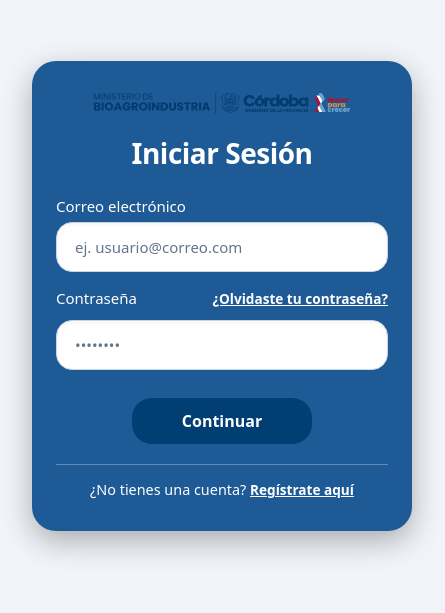
it: Pruebas del componente Login (Frontend) › TC-L-09: Muestra error si el email no tiene formato correcto
The width and height of the screenshot is (445, 613).
Ingresamos un email inválido
In the field labelled "Correo electrónico": (222, 248) 56,222 -> 388,272, type "noesunemail"
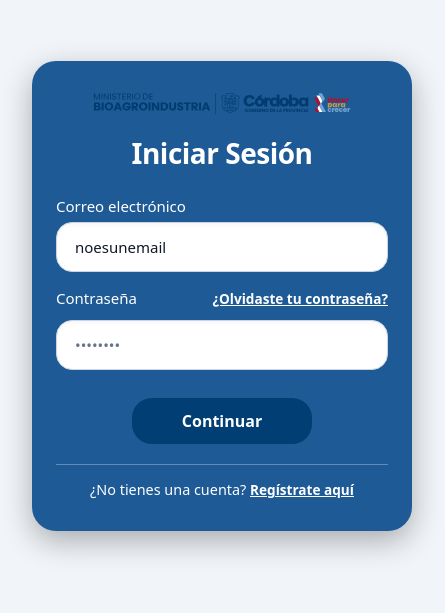
Click the button "Continuar": (222, 422) 132,398 -> 312,444
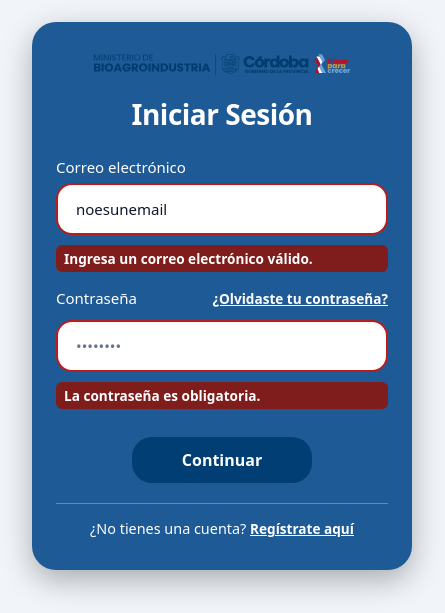
Check: the text "Ingresa un correo electrónico válido." is shown, box 56,246 -> 388,272
